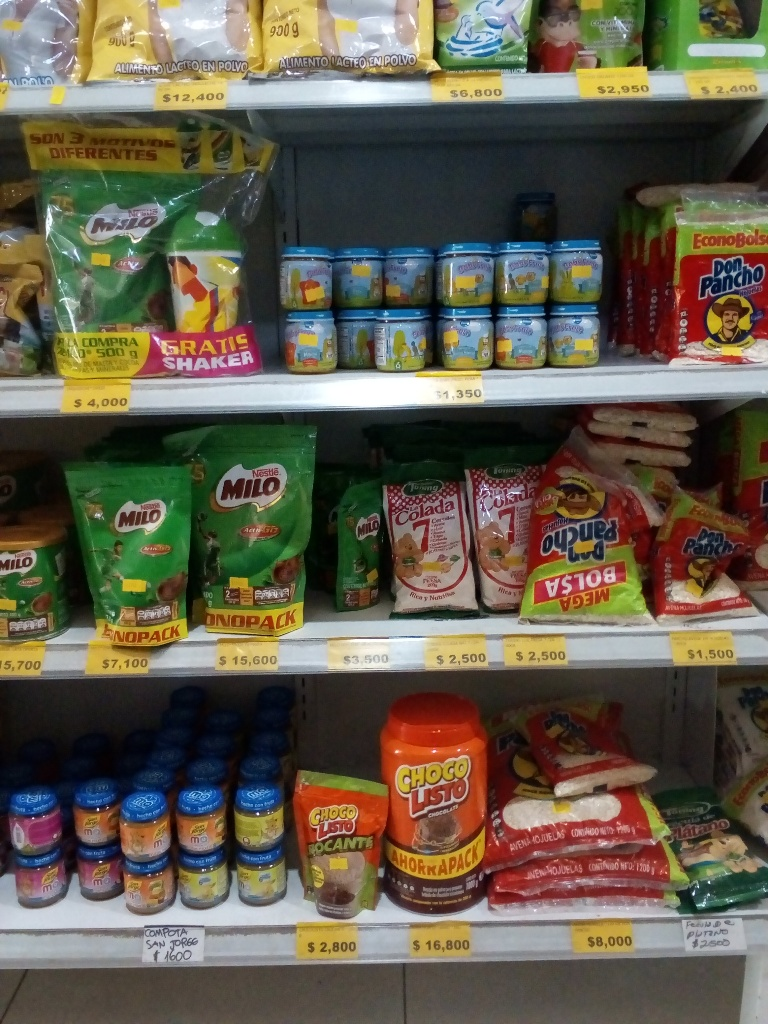COL0170102DYP10000: (292, 769, 379, 927)
COL0170103TRR00100: (378, 683, 492, 917)
COL0170203DYP10000: (317, 467, 388, 627)
COL0170203DYP25000: (66, 457, 187, 643)
COL0170203DYP50000: (32, 130, 165, 373)
COL0170203LAT40000: (1, 517, 63, 642)
